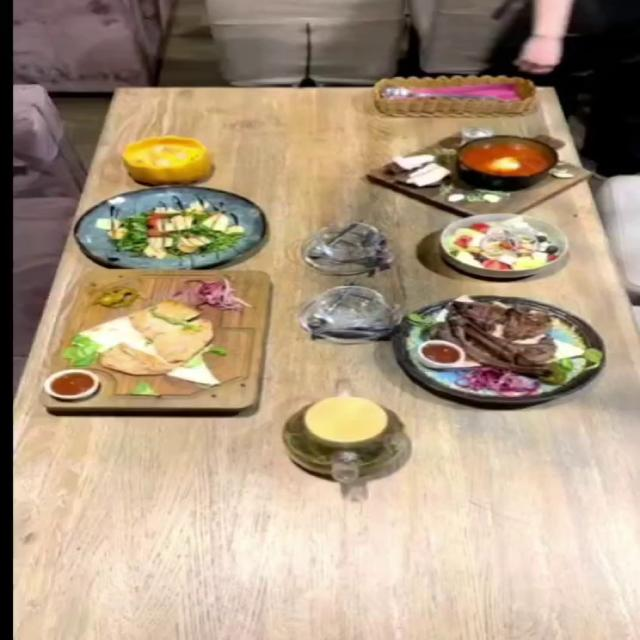meat: (390, 294, 606, 404)
salat: (74, 186, 266, 268), (440, 212, 571, 278)
soup: (386, 131, 570, 207), (122, 136, 210, 186)
tea: (282, 399, 409, 481)
